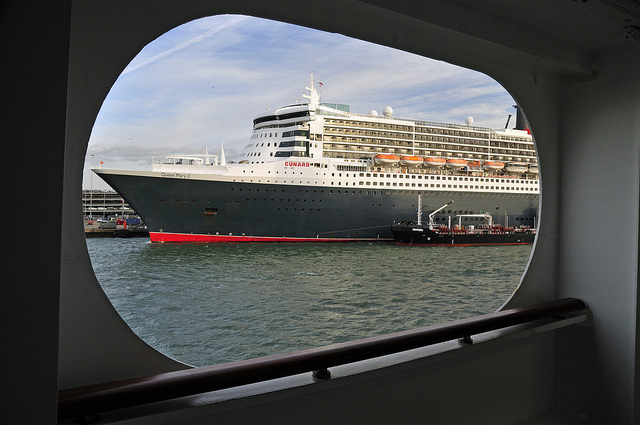boat: (391, 199, 532, 246)
cruise_ship: (92, 89, 536, 255)
